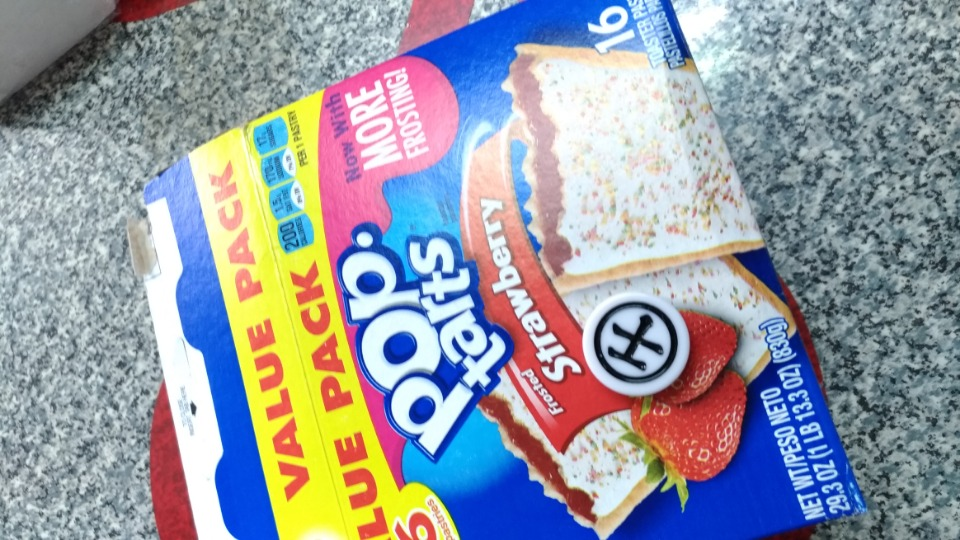b-advisor: (573, 283, 699, 403)
